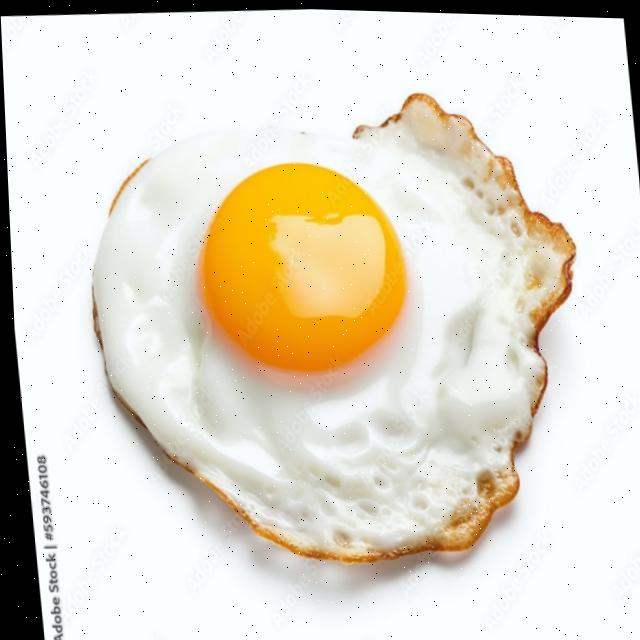Egg: (91, 92, 573, 561)
